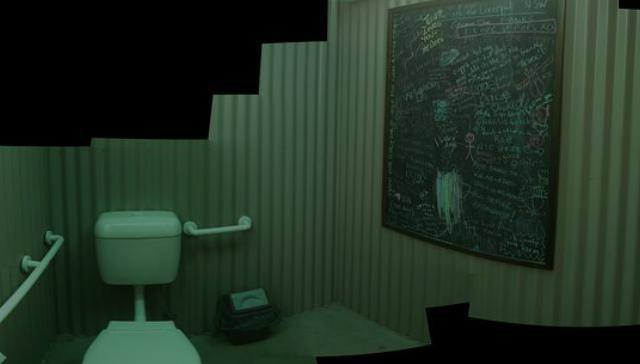Bote de Basura: (215, 284, 283, 352)
Sanitario: (78, 205, 209, 364)
